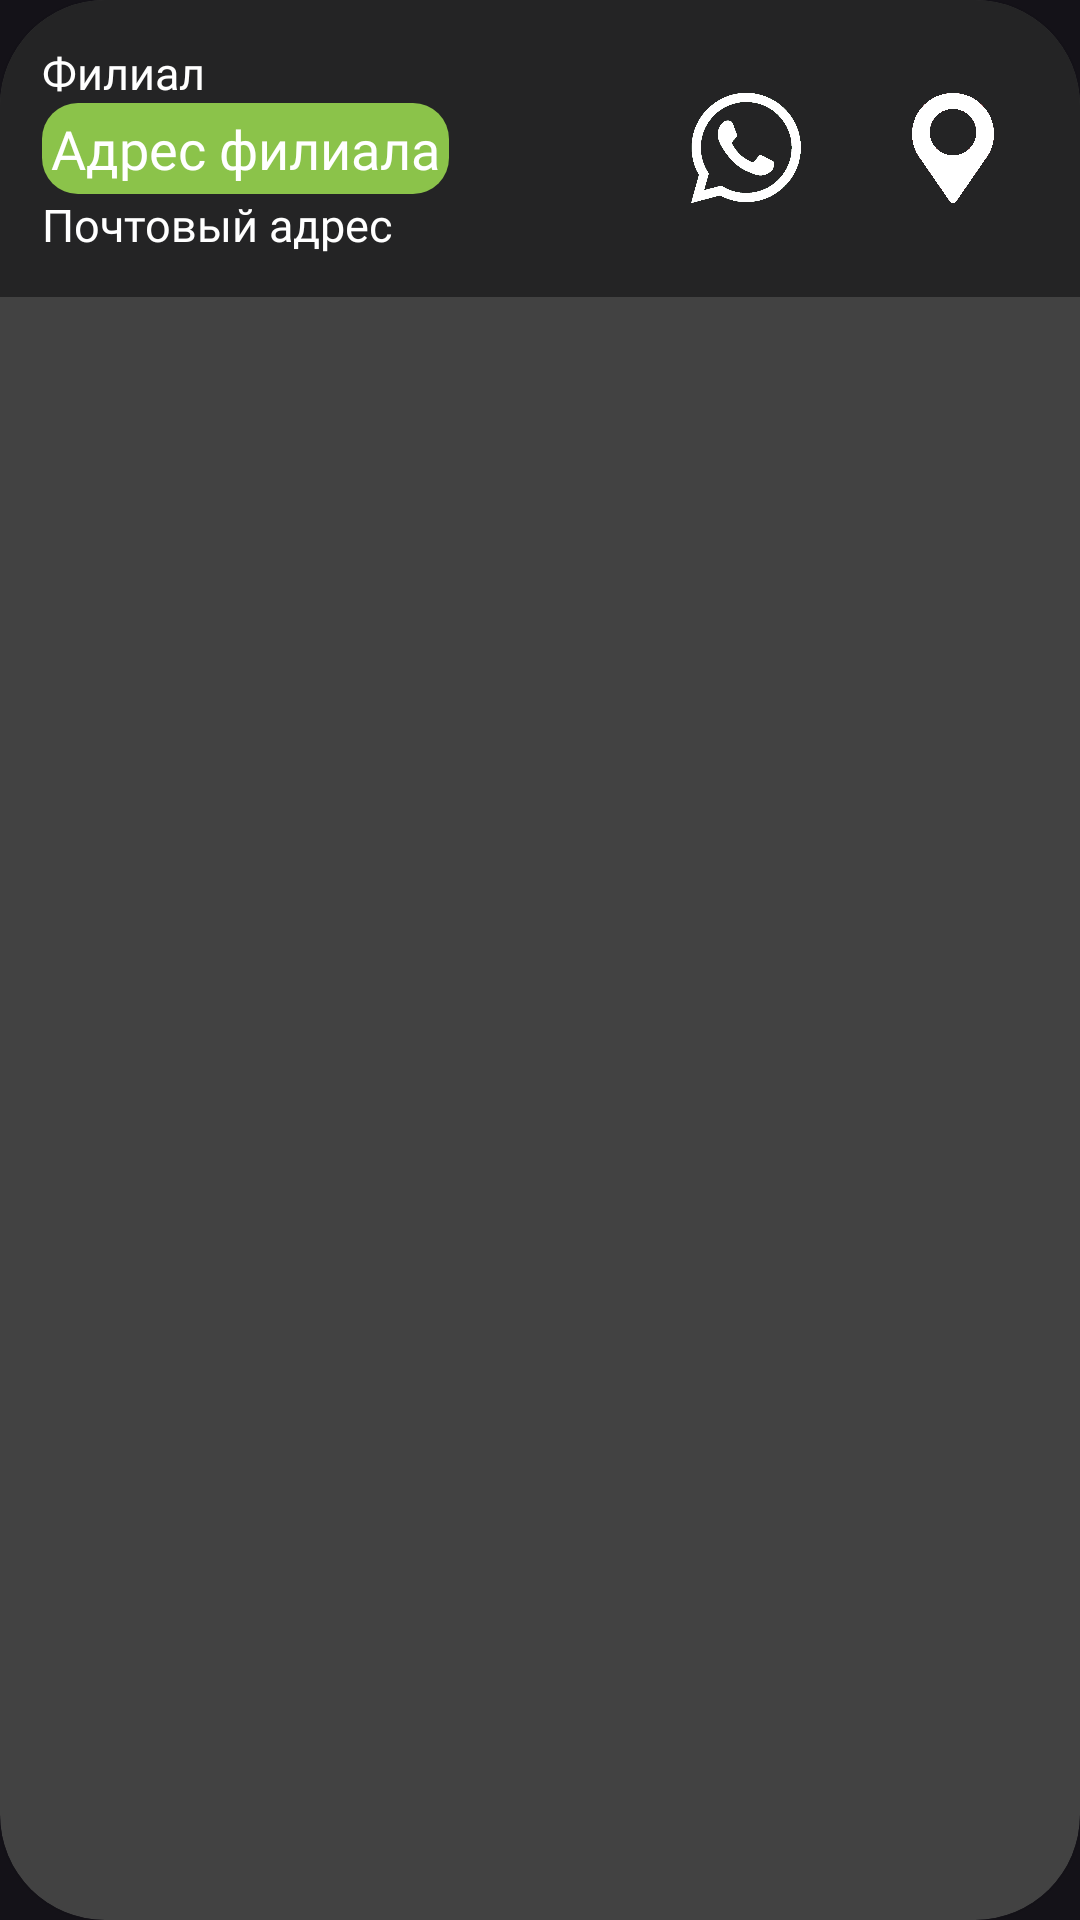

Point at icon controls on the screen. Image size 1080px×1920px, points as [x,y].
locicon: [953,148]
